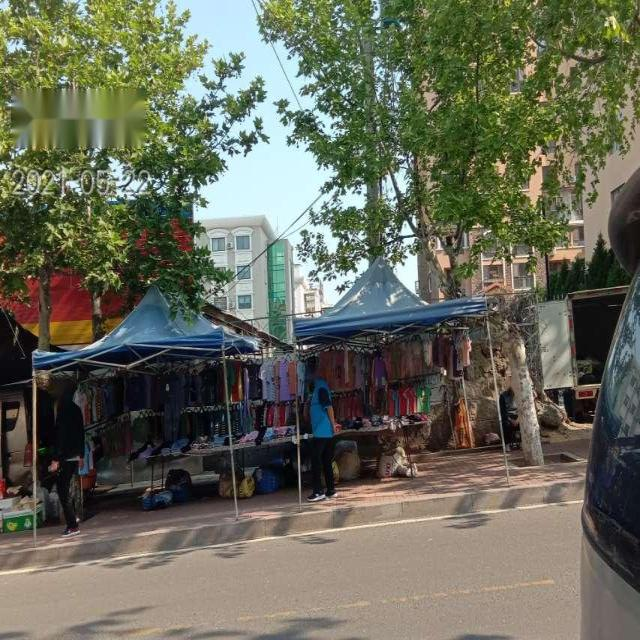fixed_stall: (48, 325, 470, 512), (1, 475, 81, 533)
sunshade: (30, 280, 262, 370), (292, 251, 509, 337), (2, 308, 72, 386)
